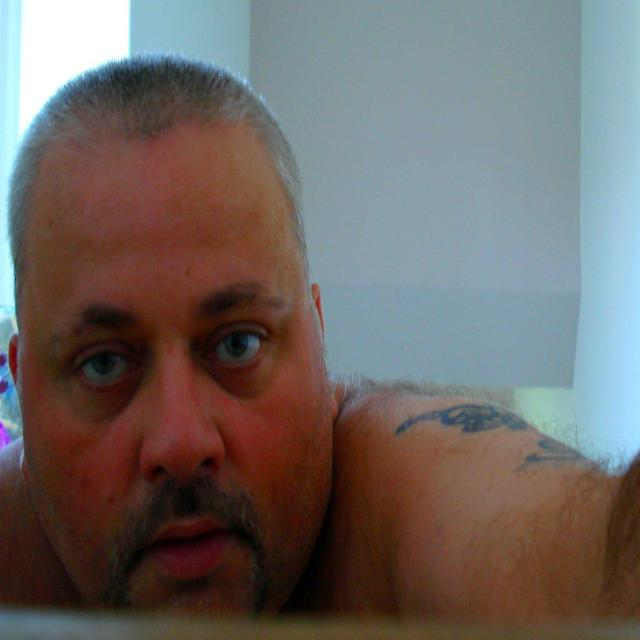Eyebags: (203, 344, 275, 396), (71, 375, 140, 419)
